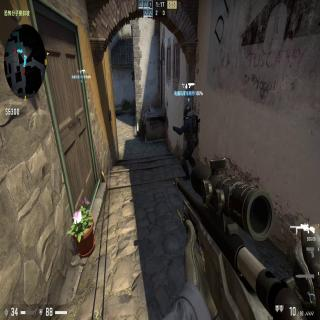CT-Body: (172, 105, 198, 181)
CT-Head: (183, 106, 191, 117)
